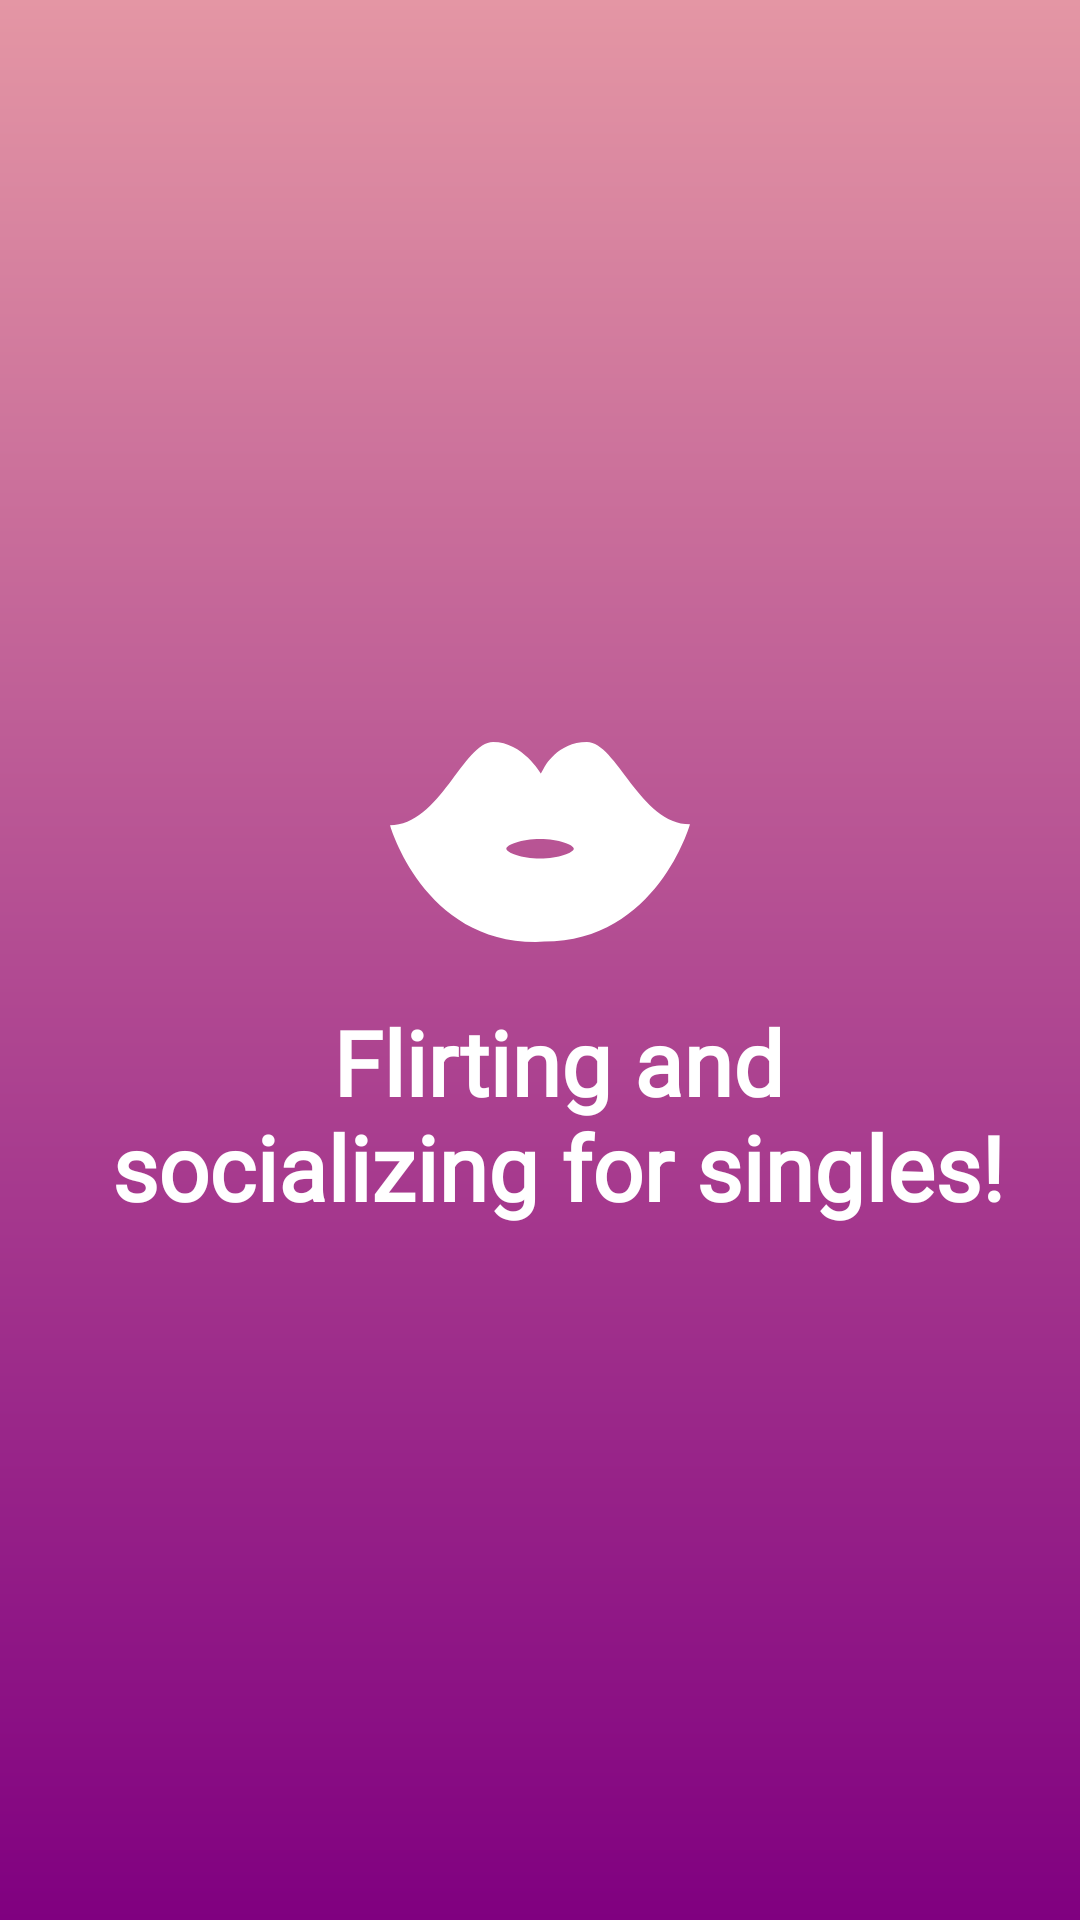

Where to tap for icons on this 1080*1920 app screen, as (x=x, y=y):
lips: (x=540, y=842)
